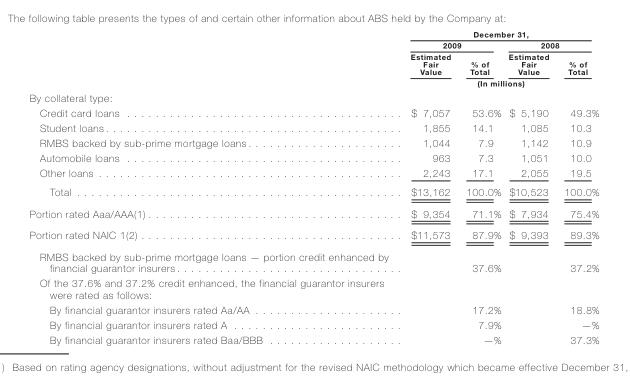table: (28, 28, 598, 345)
table column: (28, 28, 398, 345), (398, 28, 457, 345), (504, 28, 555, 345), (457, 28, 504, 345), (555, 28, 598, 345)
table column header: (28, 28, 598, 89)
table projected row header: (28, 275, 598, 301), (28, 89, 598, 104)
table row: (28, 245, 598, 275), (28, 50, 598, 76), (28, 275, 598, 301), (28, 202, 598, 224), (28, 224, 598, 245), (28, 182, 598, 202), (28, 165, 598, 182), (28, 119, 598, 135), (28, 316, 598, 332), (28, 89, 598, 104), (28, 104, 598, 119), (28, 135, 598, 150), (28, 150, 598, 165), (28, 301, 598, 316), (28, 76, 598, 89), (28, 332, 598, 345), (28, 28, 598, 39), (28, 39, 598, 50)
table spanning cell: (398, 76, 598, 89), (398, 28, 598, 39), (398, 39, 504, 50), (504, 39, 598, 50)
